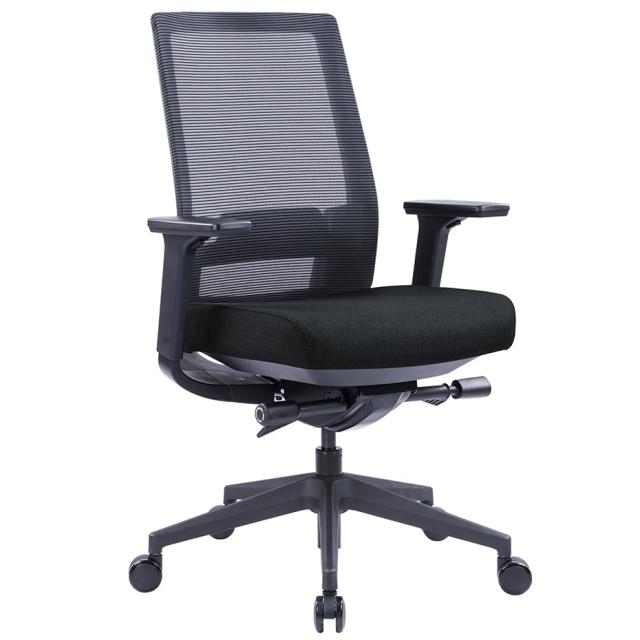chair: (127, 10, 533, 633)
